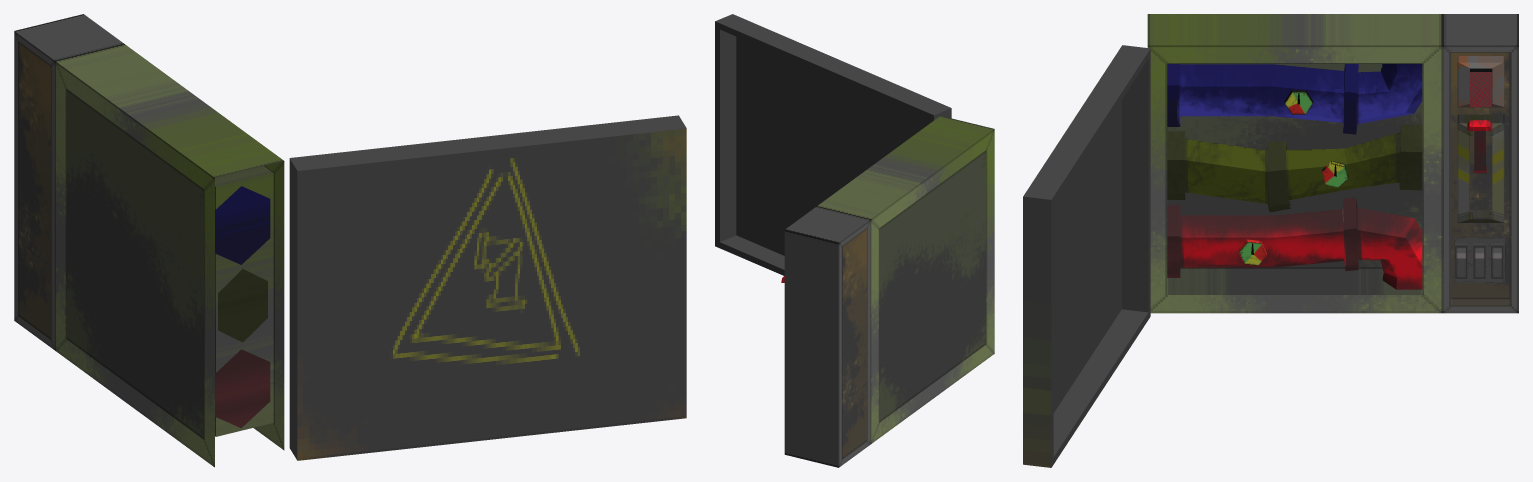
Rendered from Pipetask.fbx.
The picture shows the model from 3 angles, left to right: view 1: azimuth 30°, elevation 25°; view 2: azimuth 150°, elevation 25°; view 3: azimuth 270°, elevation 25°; orthographic projection. The views are drawn at different scales.
Visible parts, largest first — view 1: Cube.009, Cube, Circle.001, Circle, Circle.002; view 2: Cube, Cube.009; view 3: Cube, Cube.009, Circle.001, Circle.002, Circle, Cube.003, Cube.001, Cube.010, Cube.002, Cube.005, Circle.007, Circle.003 (+1 smaller).
Boxes of the visible parts, x1,y1,x2,y2 form: Cube.009: (289,115,686,460); Cube: (14,14,284,467); Circle.001: (215,349,270,428); Circle: (215,186,270,264); Circle.002: (218,269,267,342); Cube: (784,115,994,467); Cube.009: (715,14,951,275); Cube: (1147,14,1518,313); Cube.009: (1023,45,1150,467); Circle.001: (1167,197,1422,289); Circle.002: (1167,124,1422,212); Circle: (1167,64,1422,134); Cube.003: (1457,114,1504,222); Cube.001: (1457,56,1504,107); Cube.010: (1454,237,1505,282); Cube.002: (1470,68,1492,107); Cube.005: (1467,120,1492,172); Circle.007: (1238,239,1266,265); Circle.003: (1284,90,1313,114).
Bounding box in the file's own units: 1140 × 766 × 1285.
